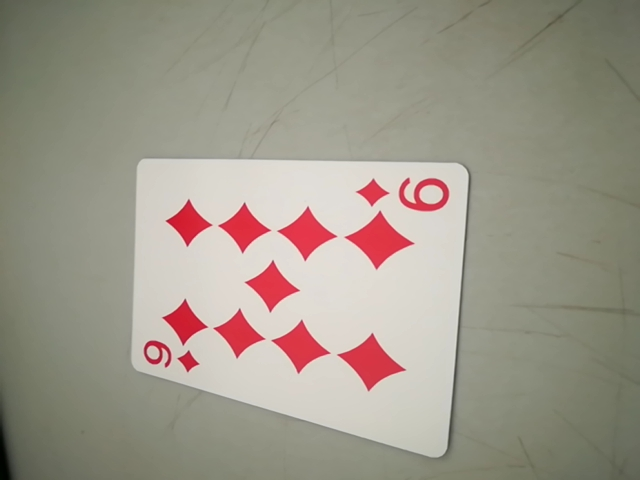fk 9: (356, 169, 458, 217), (137, 338, 210, 379)
